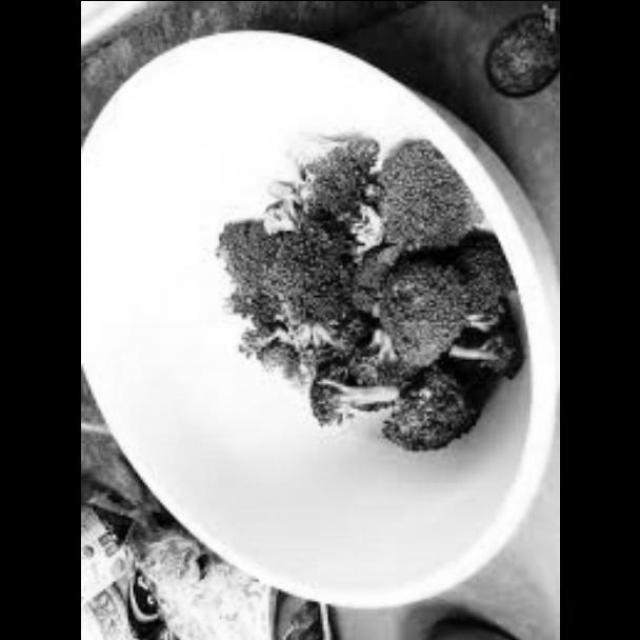broccoli: (217, 138, 530, 474)
